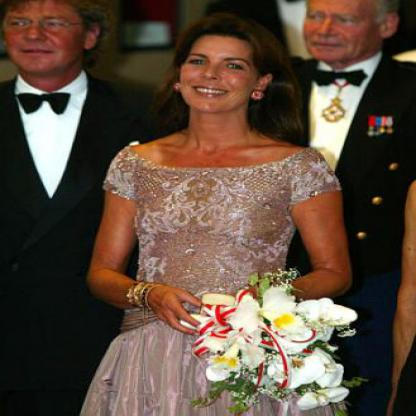face: (180, 24, 262, 116), (3, 1, 89, 76), (305, 1, 386, 66)
